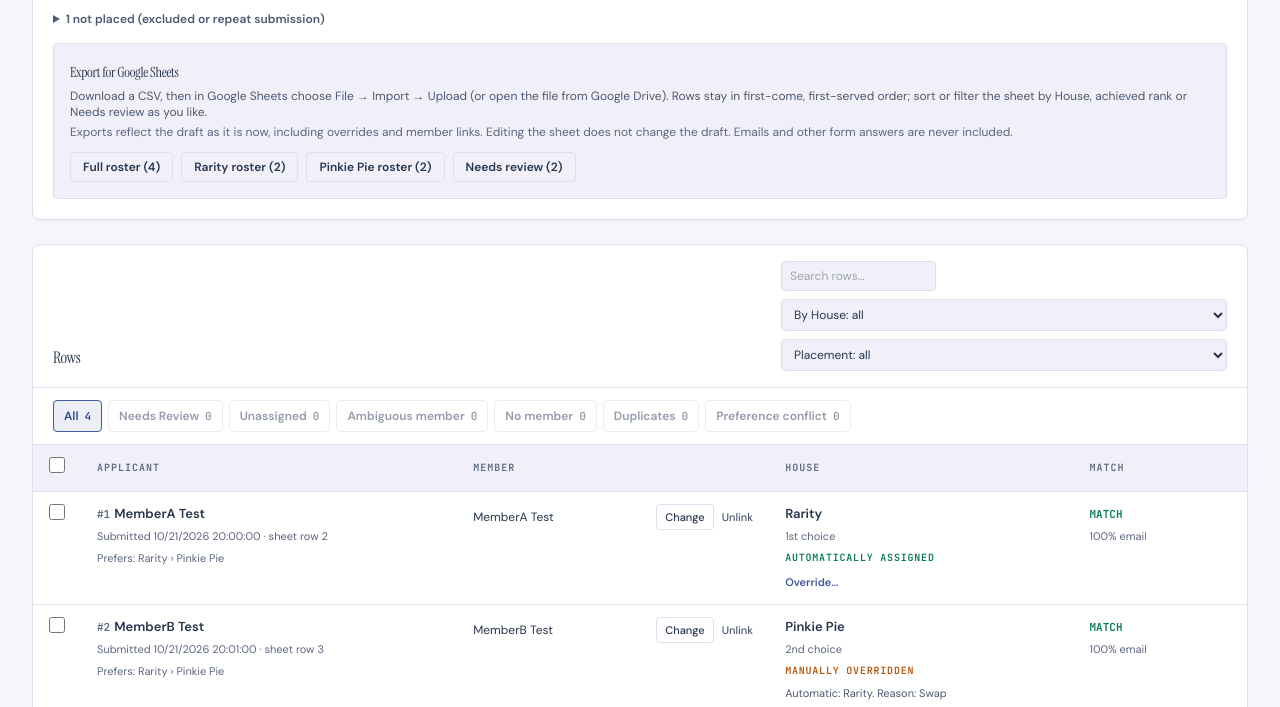
Test: filters to manual overrides
(page scrolled)
Step 1. Select "Manually overridden" in the dropdown named "Filter by placement" → (1004, 354), box [781,338,1227,370]
(page scrolled)
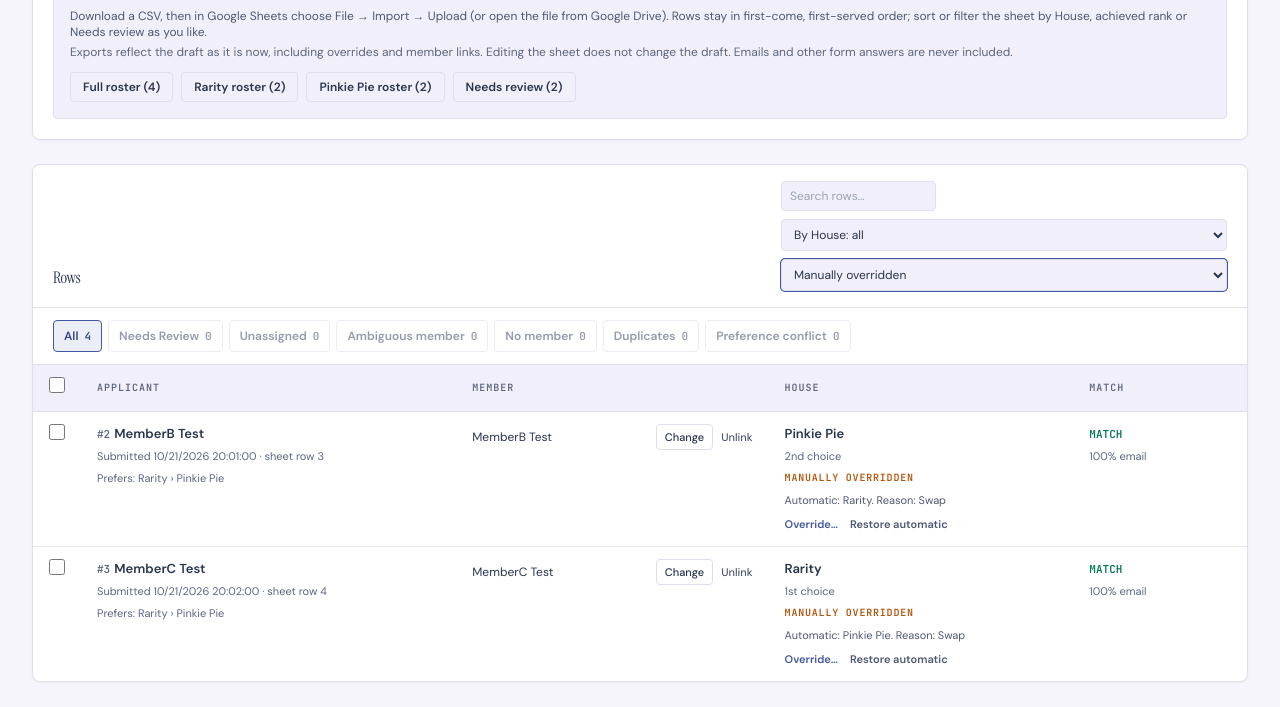
Check: the row with test id "house-draft-row" shows "#2MemberB Test", box [33,411,1247,546]
Check: the number of rows with test id "house-draft-row" is 2, box [33,411,1247,546]; [33,546,1247,680]
